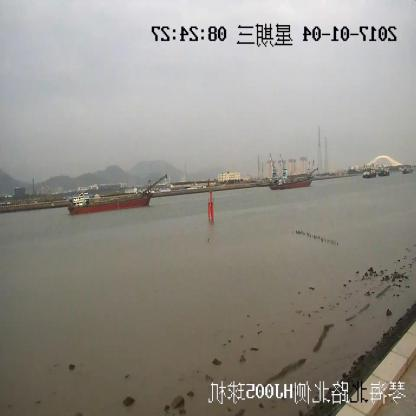Bulk Carrier: (69, 174, 167, 214), (270, 167, 318, 188)
